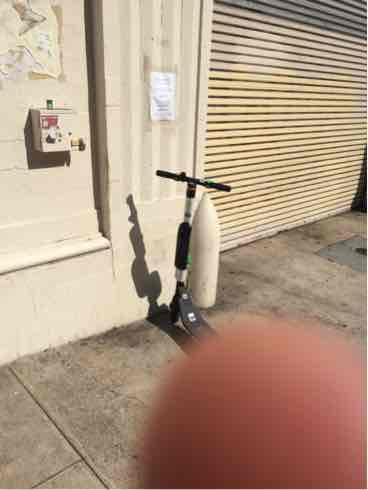scooter: (144, 163, 232, 354)
